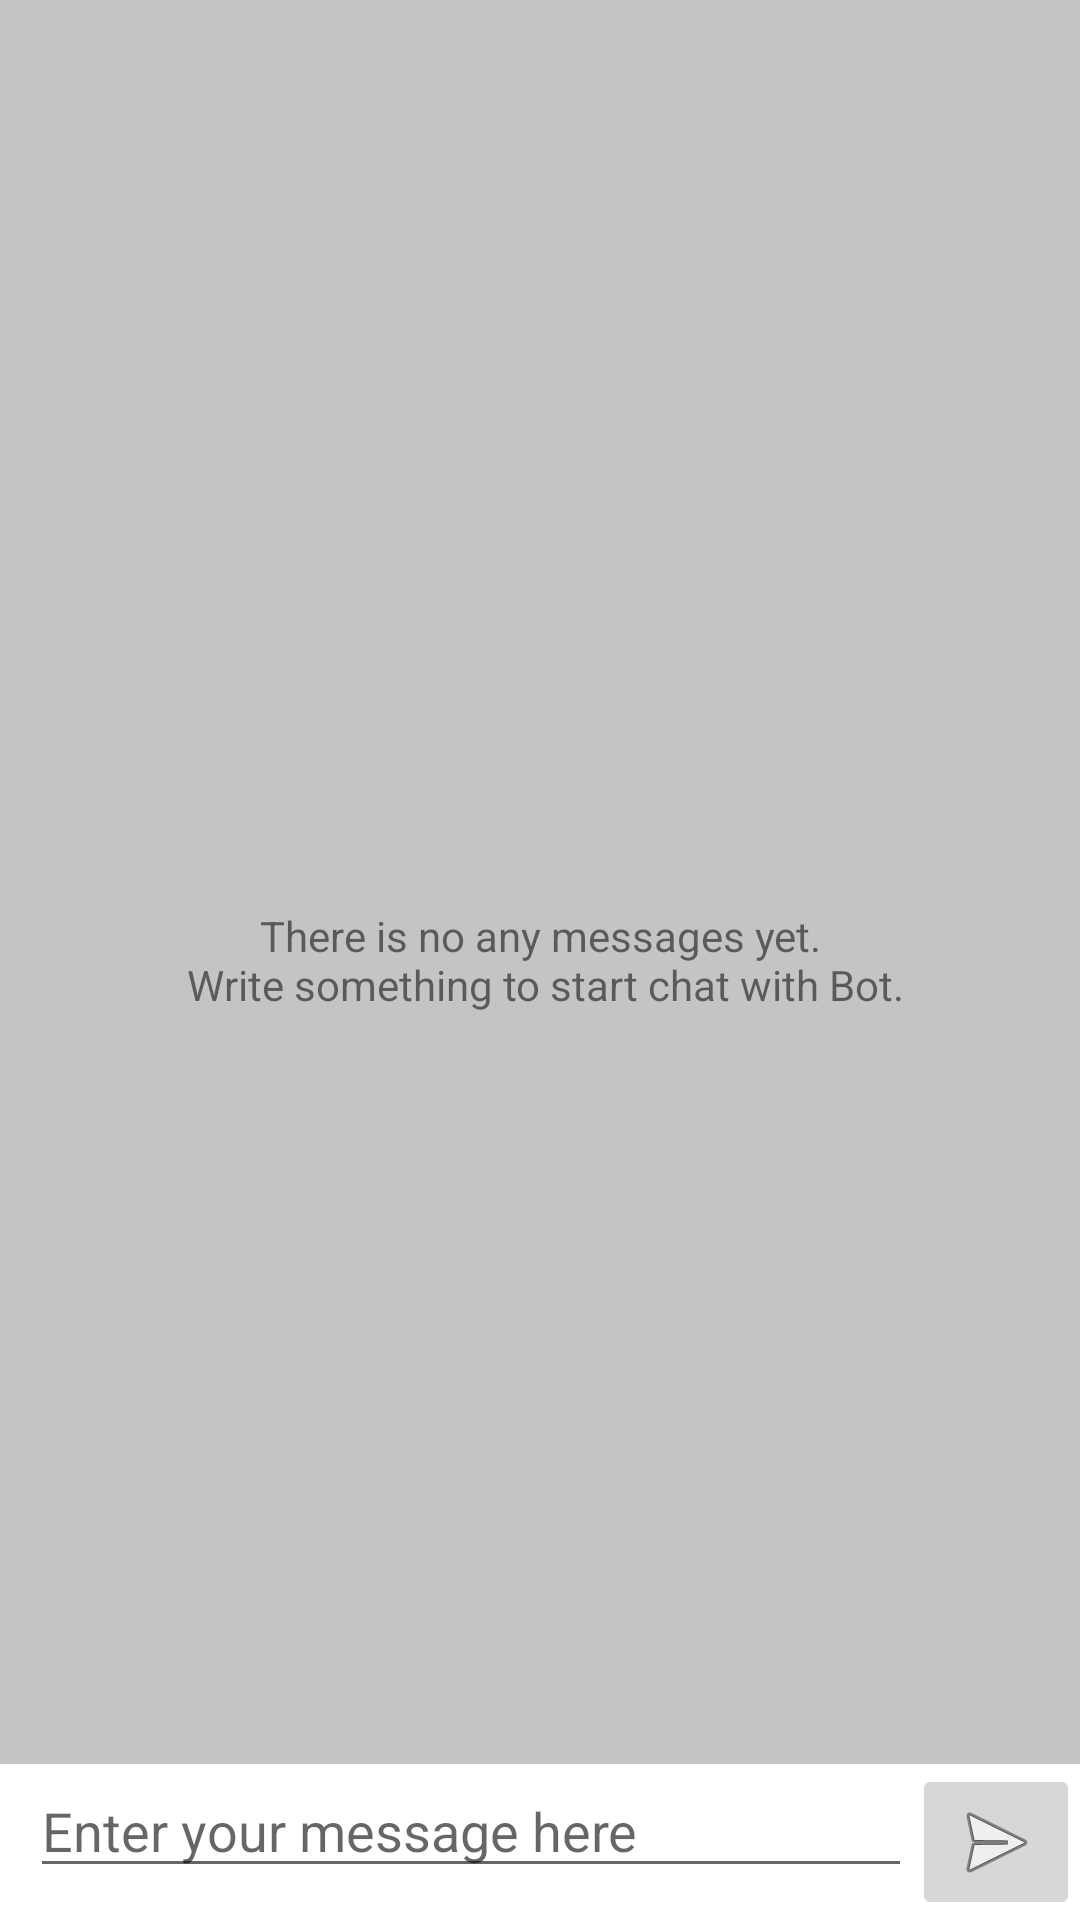

Icon click points for this 1080x1920 phone screenshot, format (x=x, y=y):
Send message button: (x=996, y=1842)
